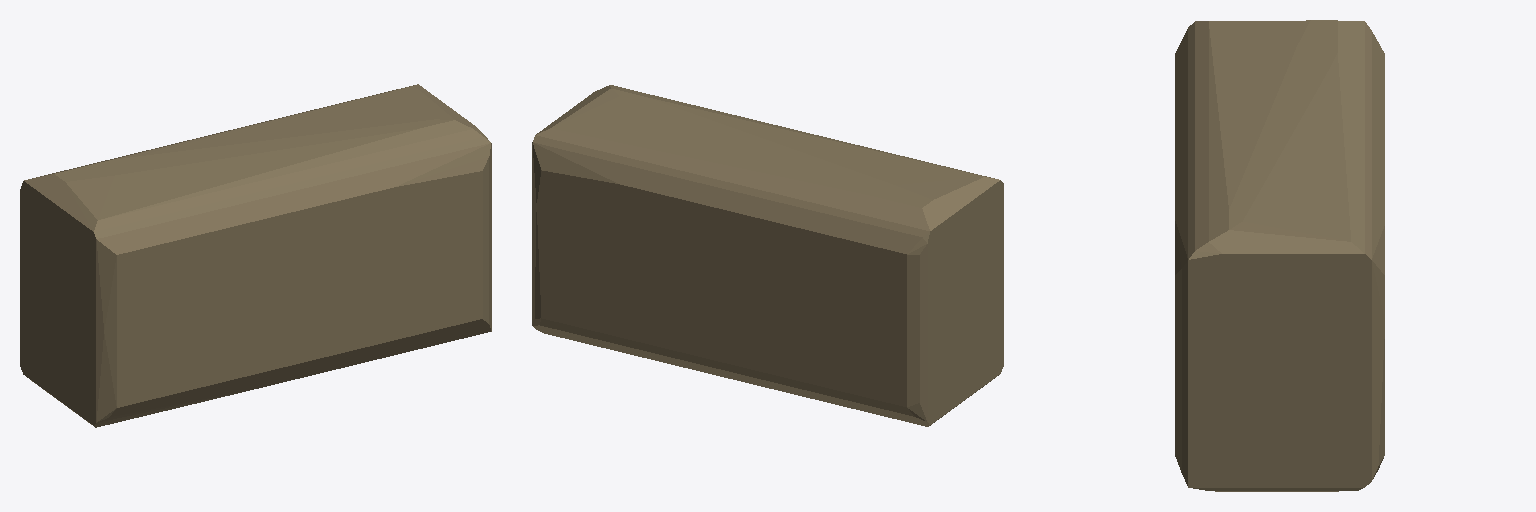
robot.urdf — block:
<?xml version="1.0"?>
<robot name="block">
  <link name="base_link">
    <visual>
      <origin xyz="0 0 0" rpy="0 0 0" />
      <geometry>
        <mesh filename="block_decimated.obj" />      
      </geometry>
      <material name="tan">
        <color rgba="0.55 0.5 0.4 1" />
      </material>
    </visual>
    <collision>
      <origin xyz="0 0 0" rpy="0 0 0" />
      <geometry>
        <mesh filename="block_decimated.obj" />
      </geometry>
    </collision>
    <inertial>
      <mass value="0.2" />
      <inertia ixx="0.02" ixy="0.0" ixz="0.0" iyy="0.1" iyz="0.0" izz="0.1" />
    </inertial>
  </link>
</robot>

--- Facts derived from the render (not from the file) ---
3 views of the same robot in one strip: view 1: azimuth 30°, elevation 25°; view 2: azimuth 150°, elevation 25°; view 3: azimuth 270°, elevation 25° (orthographic).
Model block with 1 links and 0 joints (none), rooted at base_link, posed all joints at 0.
Visible links, largest first — view 1: base_link; view 2: base_link; view 3: base_link.
Boxes of the visible links, x1,y1,x2,y2 form: base_link: [20, 84, 491, 427]; base_link: [532, 85, 1003, 426]; base_link: [1175, 20, 1384, 491].
Size in the robot's own frame: 50.79 by 19.44 by 26.34 metres.
1 mesh visuals loaded from 1 distinct referenced files (1 OBJ).
